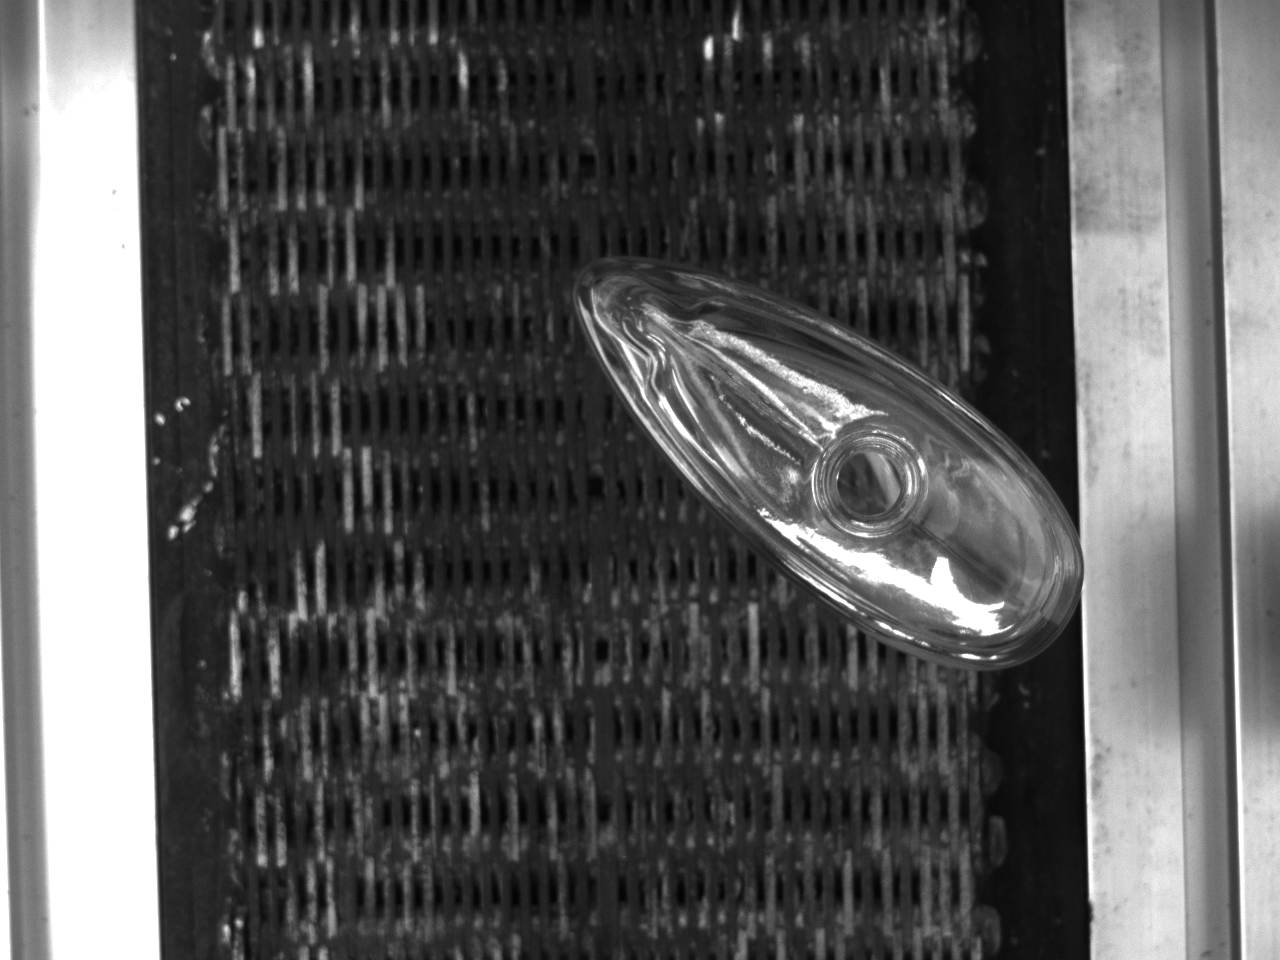bottleneck: (817, 430, 929, 539)
